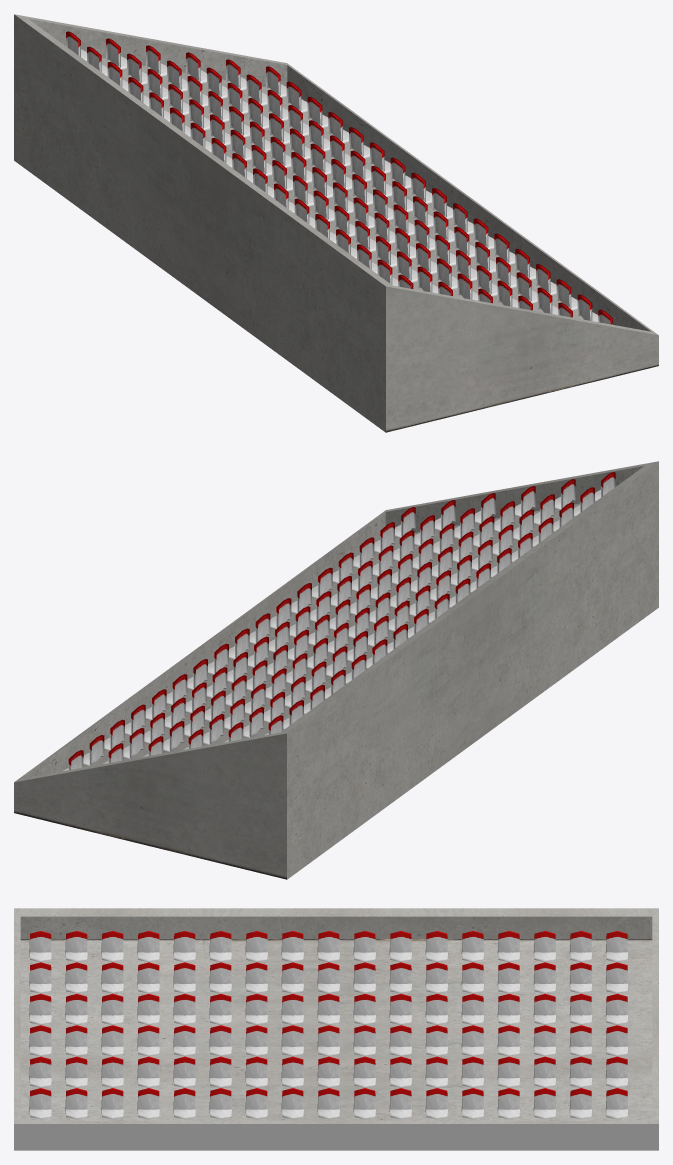
Rendered from seats.fbx.
3 renders of one model, top to bottom at view 1: azimuth 30°, elevation 25°; view 2: azimuth 150°, elevation 25°; view 3: azimuth 270°, elevation 25°, orthographic. The views are drawn at different scales.
Parts seen in each view (by area): view 1: seat; view 2: seat; view 3: seat.
Boxes of the visible parts, x1,y1,x2,y2 form: seat: (14,14,658,432); seat: (14,461,658,879); seat: (14,908,658,1150).
Size of the model in its own units: 13.67 by 7 by 32.23.
